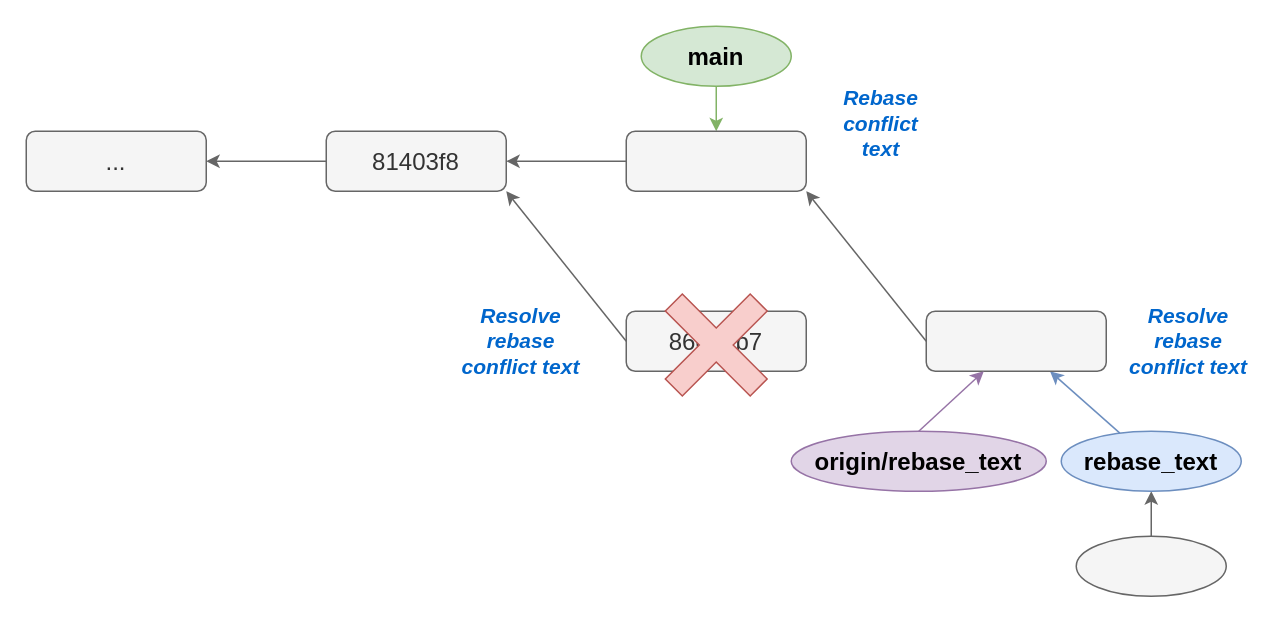
Image size: 1283x623. Some labels were removed from this diagram. The centre of each missing label's shape, as x and y in pixels:
"23bbe2" goes at point (1015, 340).
"84fe400" goes at point (715, 160).
"HEAD" goes at point (1150, 565).
